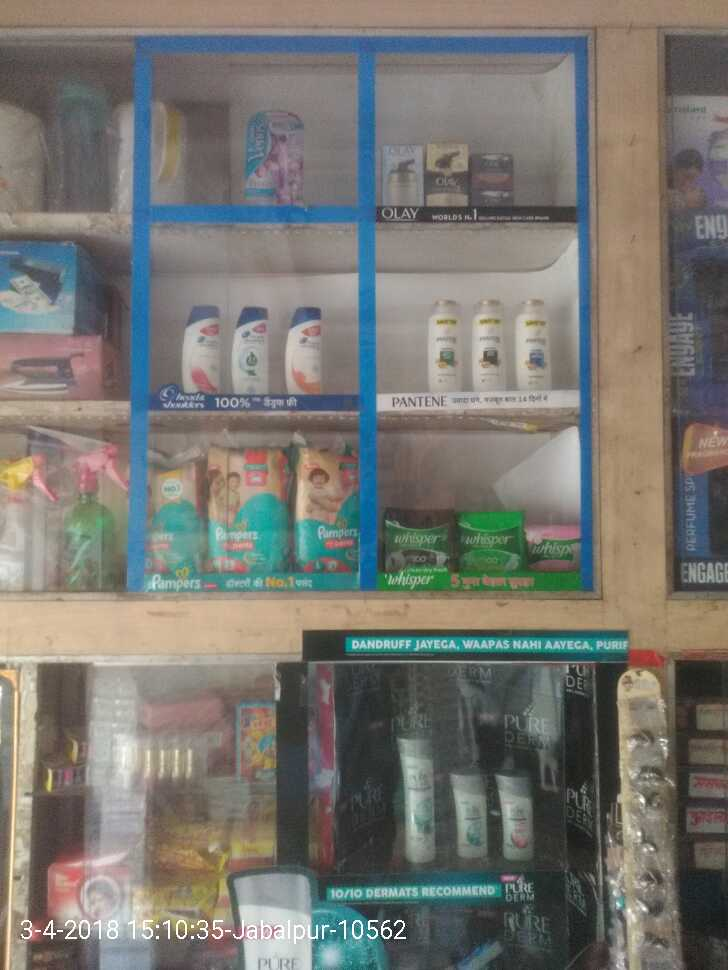venus: (244, 109, 303, 205)
